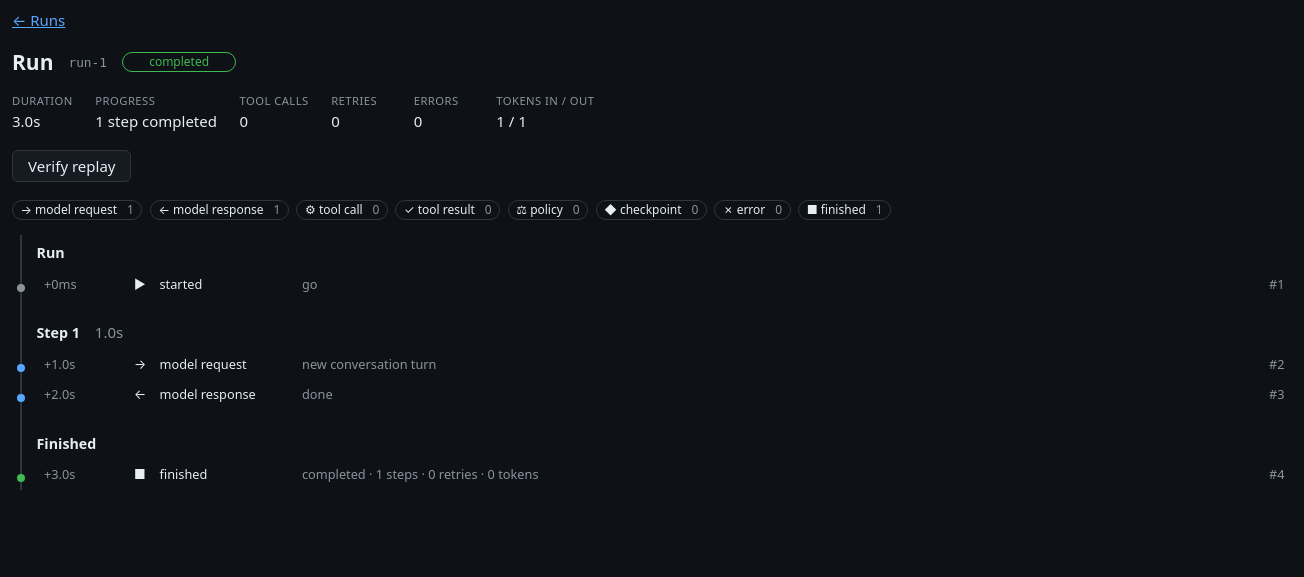
Test case: RunDetailPage actions › verifies a replay and reports success
The image size is (1304, 577).
What coordinates should you click on to do the following:
click the button "Verify replay"
I would click on:
 (72, 166)
Its box is [12,150,132,182].
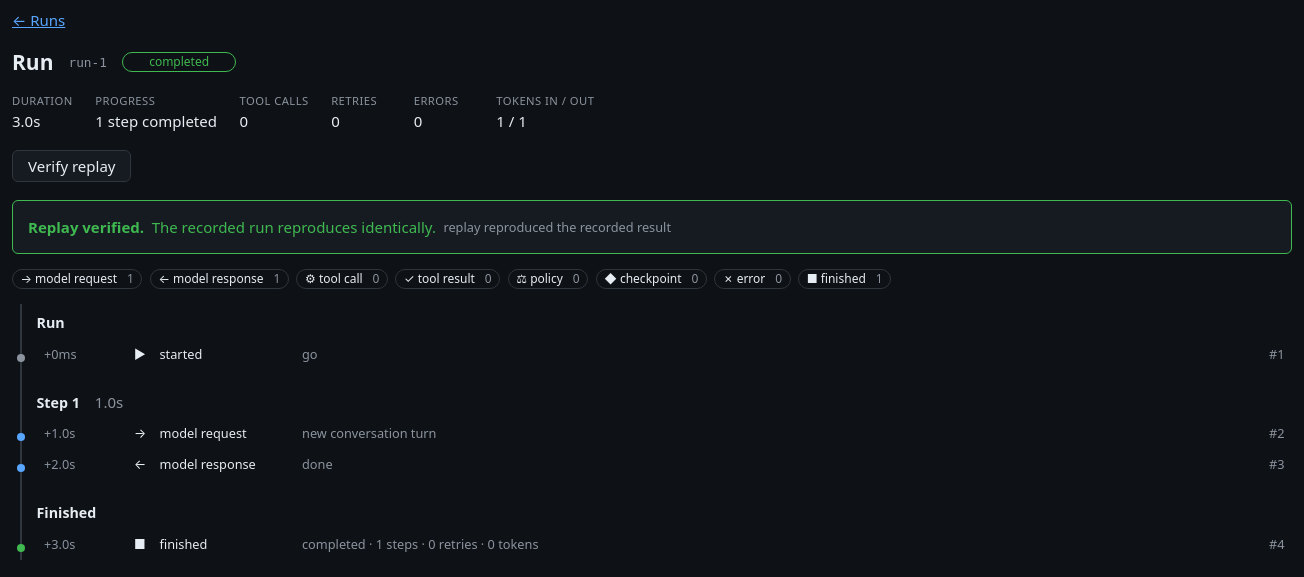
Expected: the text "Replay verified." is shown, [28,216,144,238]
